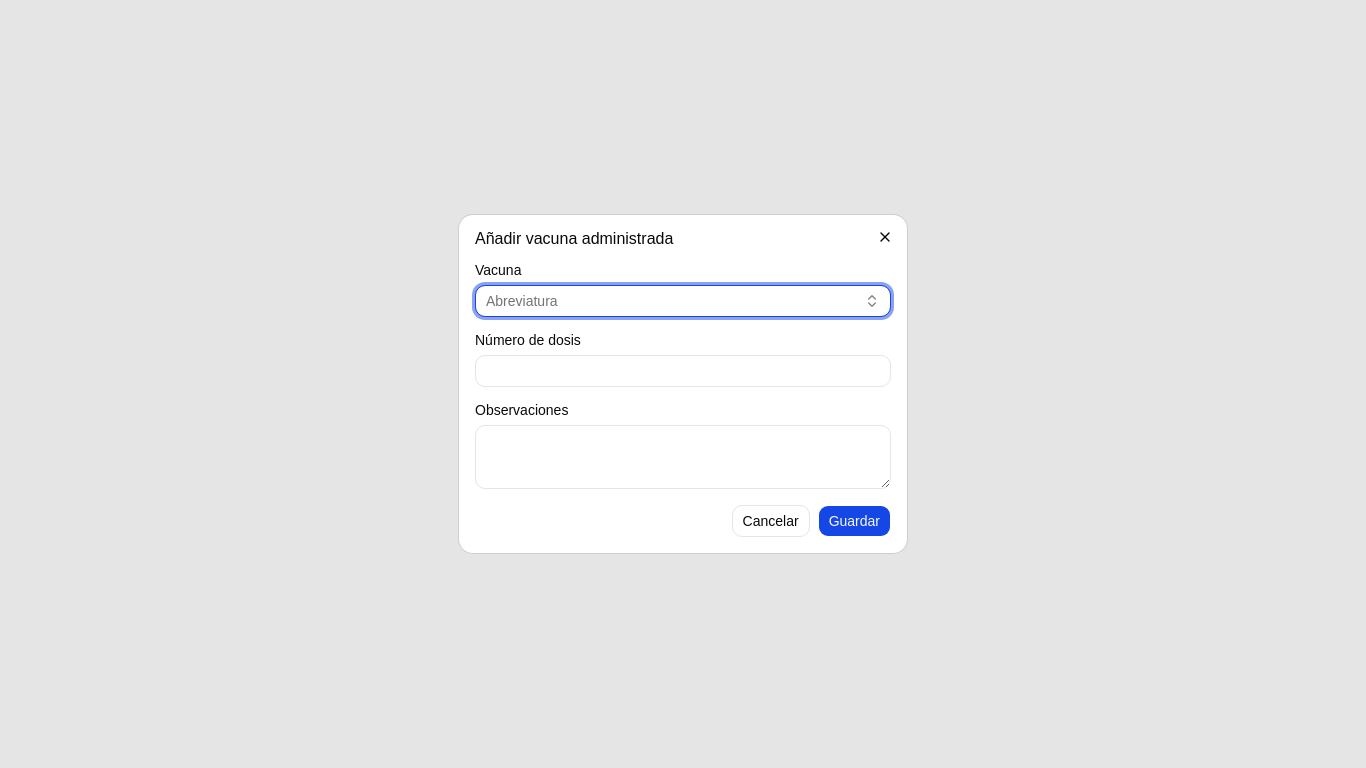
Test case: VaccineAdministeredFormDialog — SPEC FE13d §4 paso 6 › un 409 INVVACAD_001_ALREADY_EXISTS marca el campo de la vacuna con el mensaje del backend
Click the dropdown: [522, 301] box [475,285,891,317]
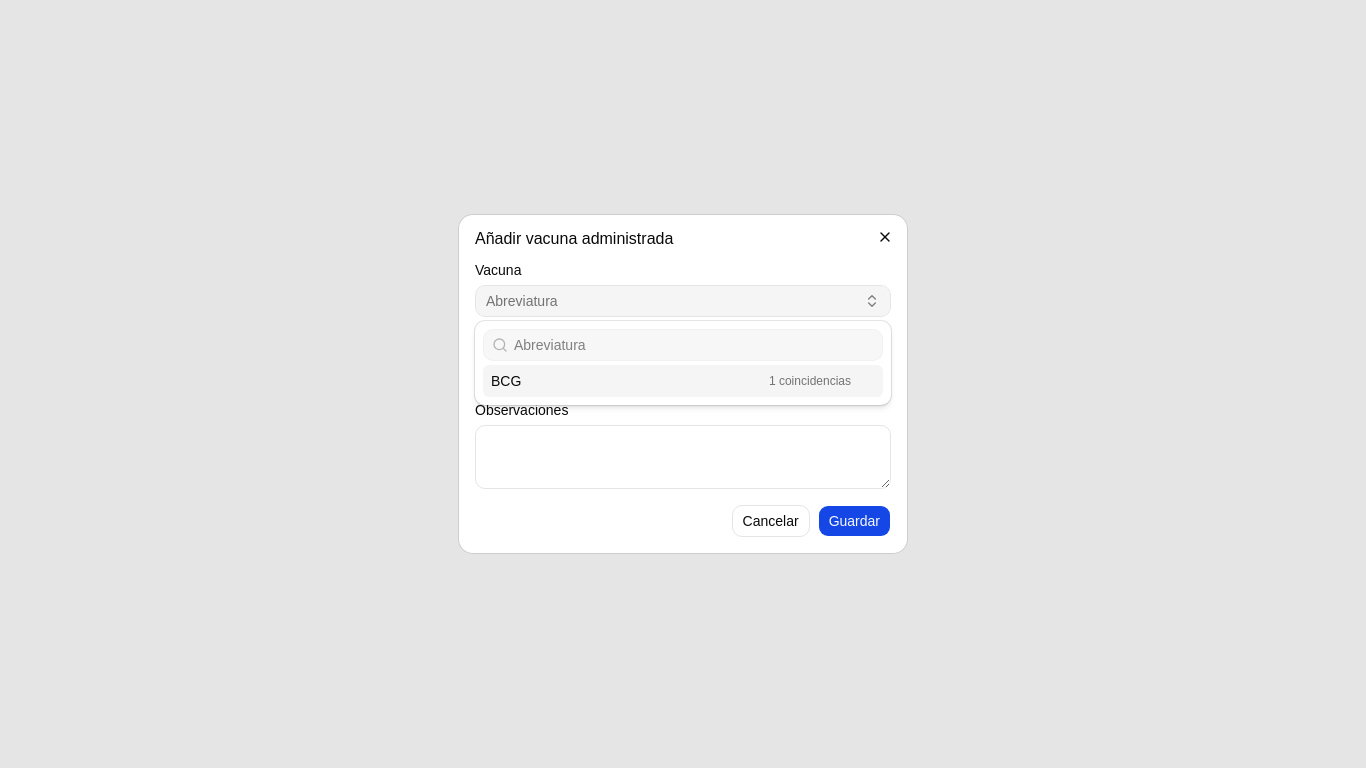
Click the option "BCG 1 coincidencias": [506, 381] box [483,365,883,397]
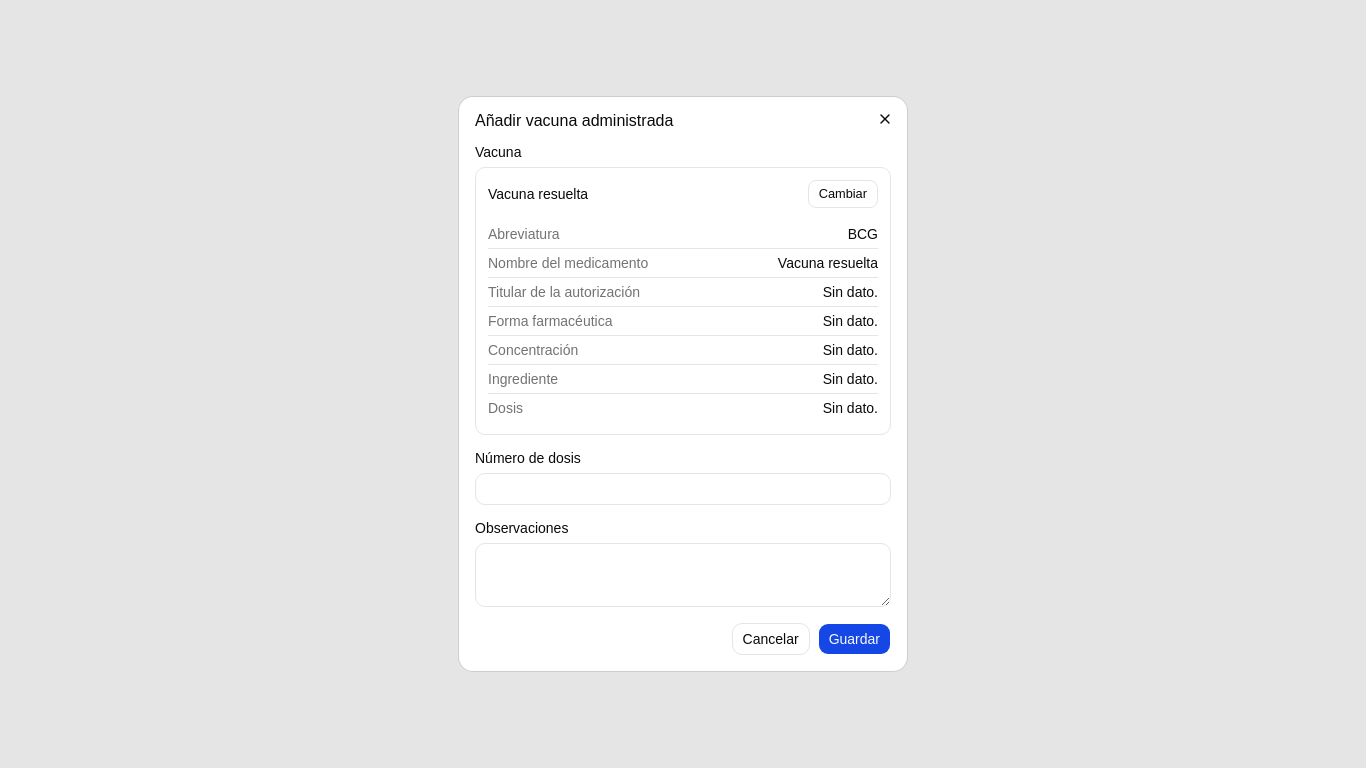
Expected: the 1st text "Vacuna resuelta" is shown, [488,184,588,204]
Click the button "Guardar": [854, 639] box [818,623,891,655]
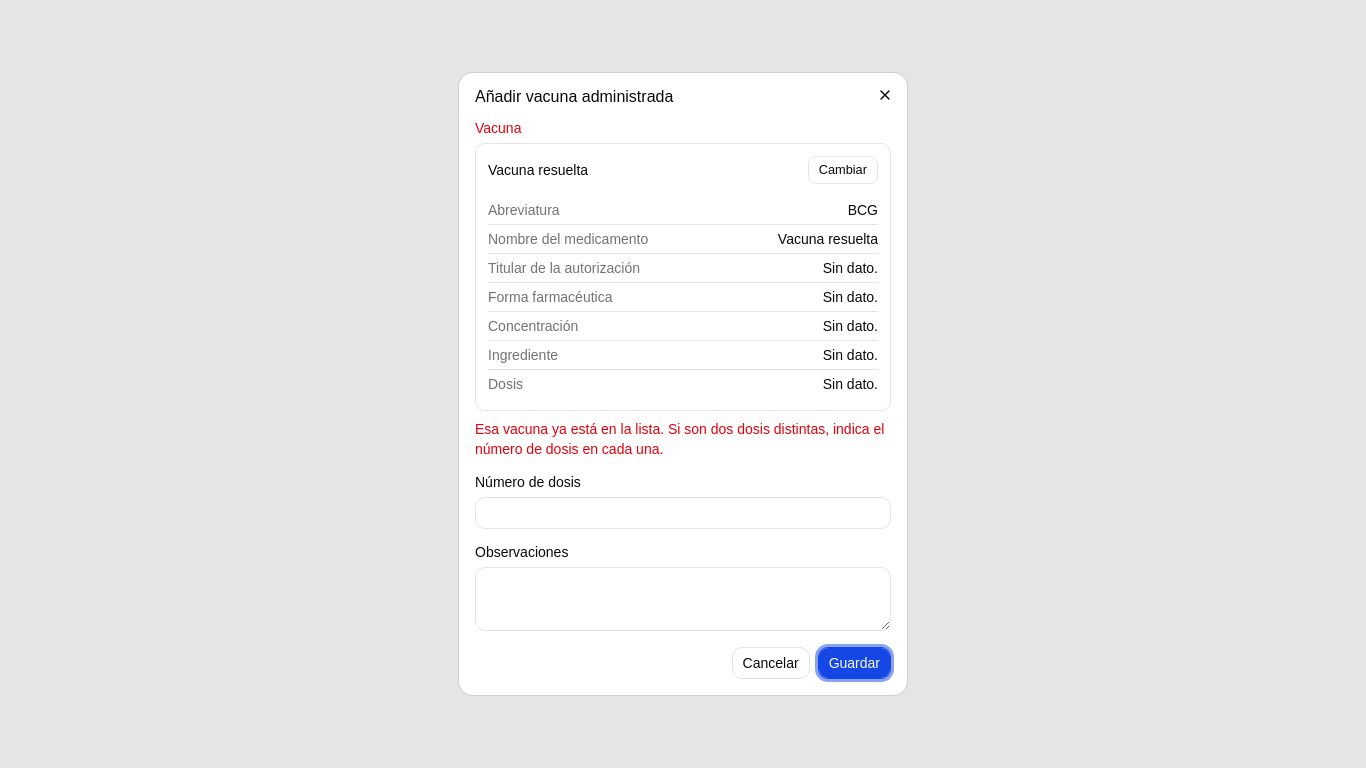
Expected: the text "Esa vacuna ya está en la lista. Si son dos dosis distintas, indica el número de dosis en cada una." is shown, [475,421,884,457]
